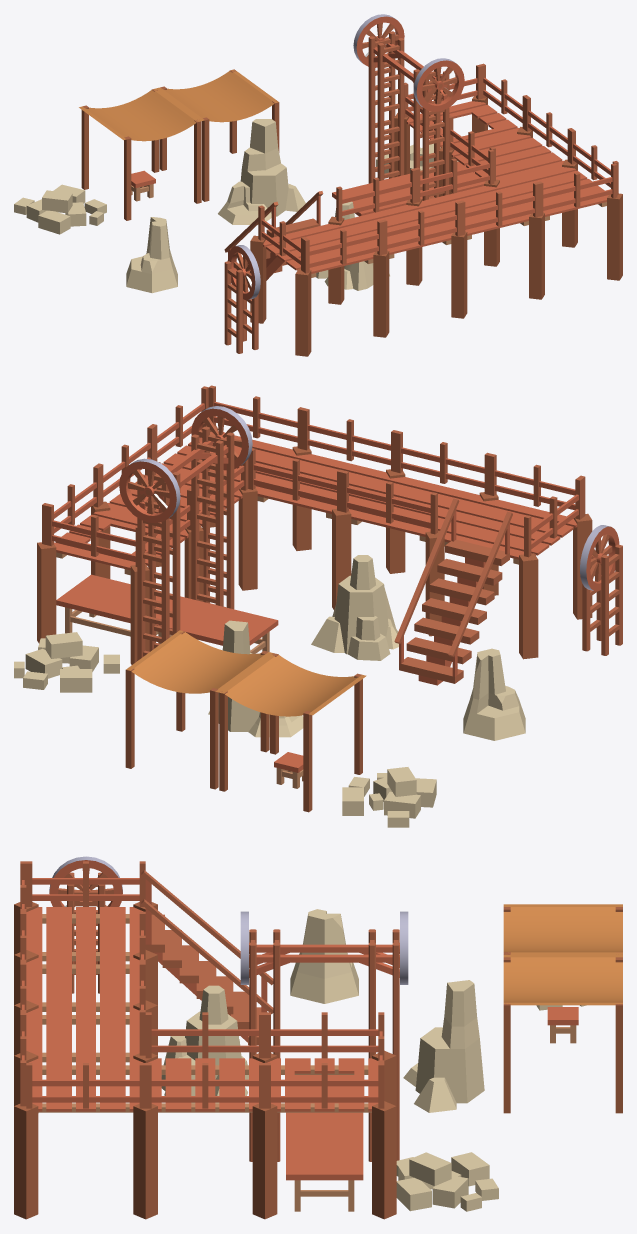
The model's file is carriere.glb.
The picture shows the model from 3 angles, top to bottom: view 1: azimuth 30°, elevation 25°; view 2: azimuth 150°, elevation 25°; view 3: azimuth 270°, elevation 25°; orthographic projection. The views are drawn at different scales.
Visible parts, largest first — view 1: mergedBlocks(Clone); view 2: mergedBlocks(Clone); view 3: mergedBlocks(Clone).
Part boxes in pixels (left/top/right/bottom): mergedBlocks(Clone): left=14, top=14, right=622, bottom=356; mergedBlocks(Clone): left=14, top=385, right=622, bottom=827; mergedBlocks(Clone): left=14, top=856, right=622, bottom=1219.
Size of the model in its own units: 5.03 by 2.21 by 5.1.
Materials: 1 (1 with a texture image).
